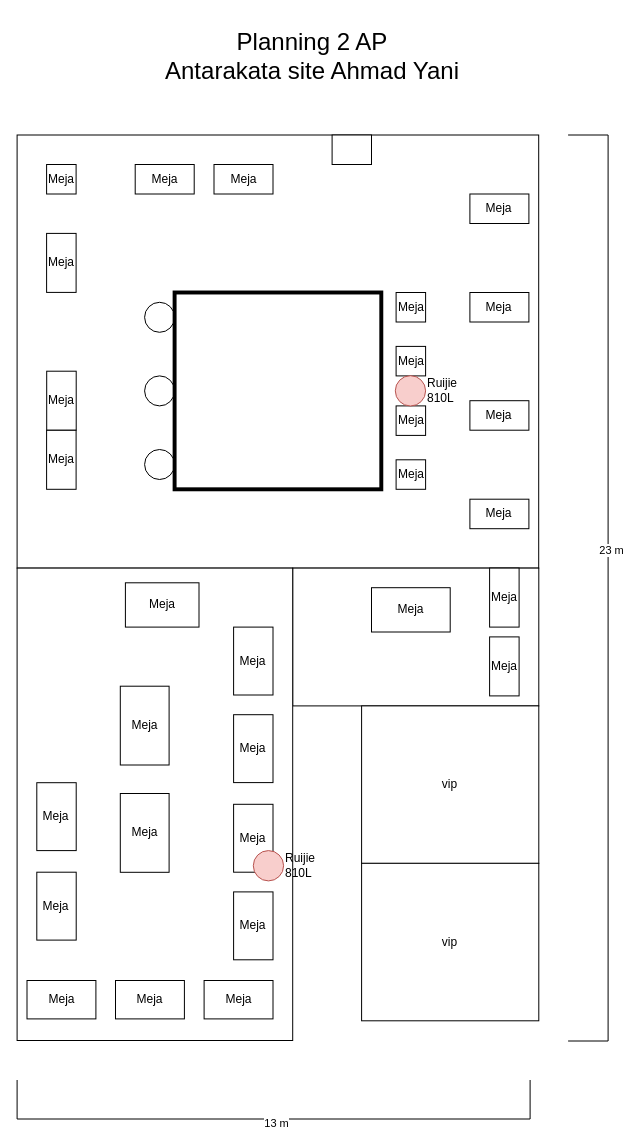
Some shapes in this 641 by 1148 pixel diagram are drawn without their labels. Each missing label, with the box of its shape:
Kasir: (172, 290, 383, 491)
Pintu Masuk: (331, 134, 372, 164)
